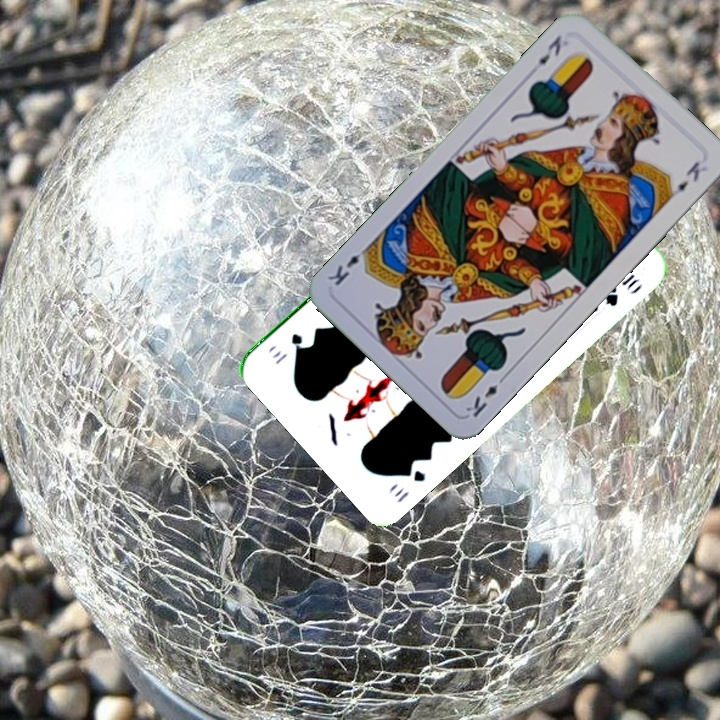EK: (461, 370, 510, 421), (534, 31, 564, 68)
G10: (391, 460, 429, 505)
